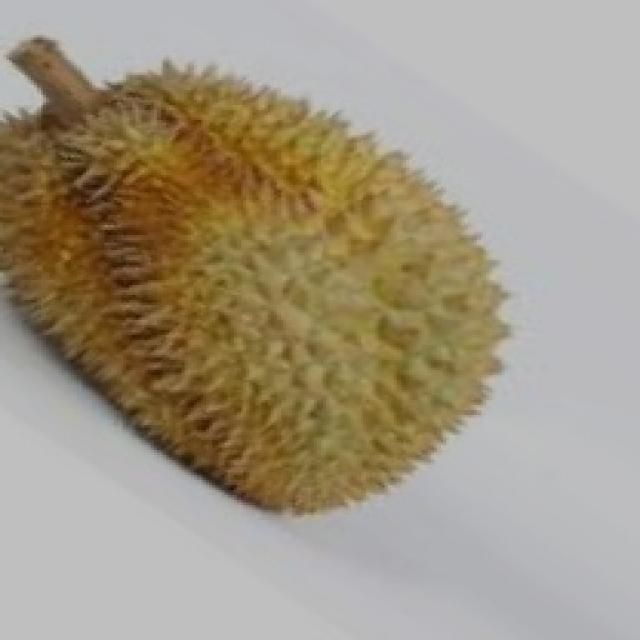fruit: (3, 160, 379, 565)
